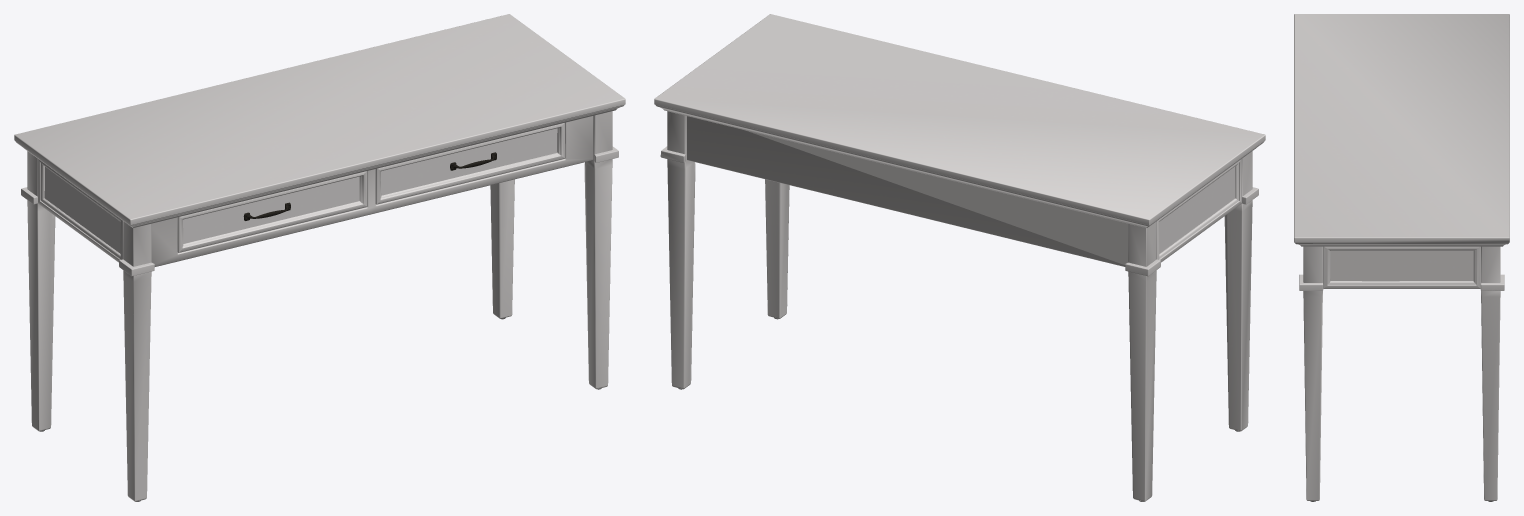
3 renders of one model, left to right at view 1: azimuth 30°, elevation 25°; view 2: azimuth 150°, elevation 25°; view 3: azimuth 270°, elevation 25°, orthographic. The views are drawn at different scales.
Parts seen in each view (by area): view 1: visual_RootNode; view 2: visual_RootNode; view 3: visual_RootNode.
Part boxes in pixels (<box>): visual_RootNode: <box>14,14,625,501</box>; visual_RootNode: <box>654,14,1265,501</box>; visual_RootNode: <box>1294,14,1509,501</box>.
Size of the model in its own units: 1.37 by 0.5586 by 0.7744.
1 material, 1 textured.
